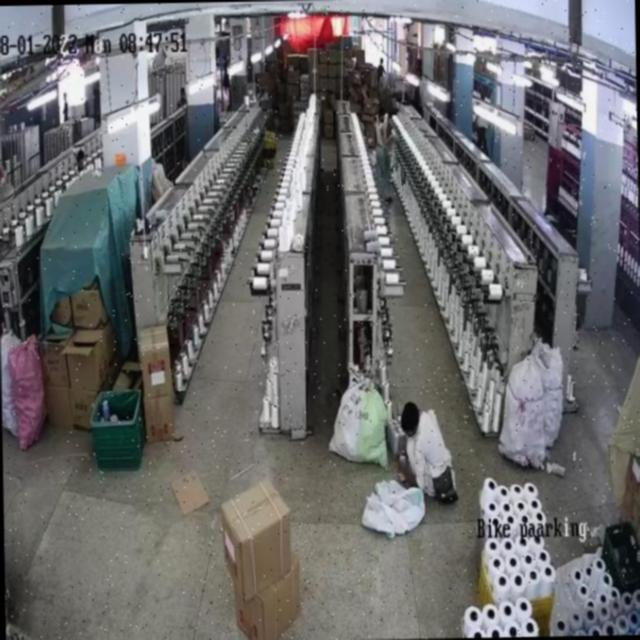person: (401, 395, 456, 497), (376, 108, 390, 214)
